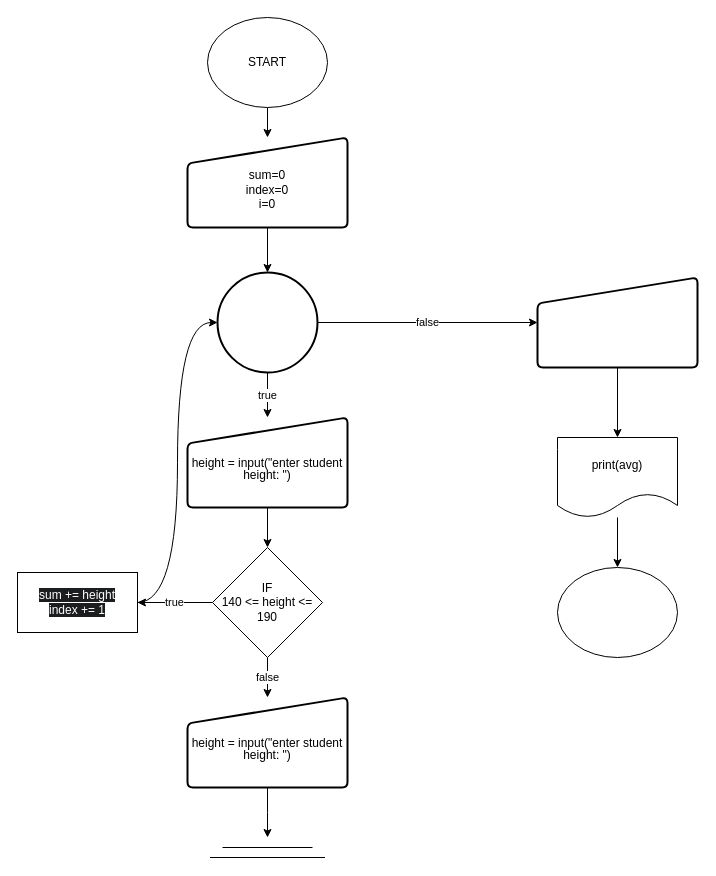
Some shapes in this 716 by 876 pixel diagram are drawn without their labels. The centre of each missing label's shape, as x and y in pixels:
avg=sum/count: [617,322]
END: [617,612]
WHILE index < 20: [267,322]
